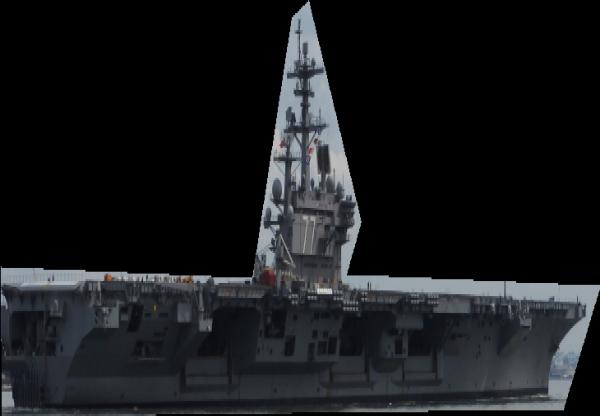Aircraft Carrier: (1, 0, 600, 416)
